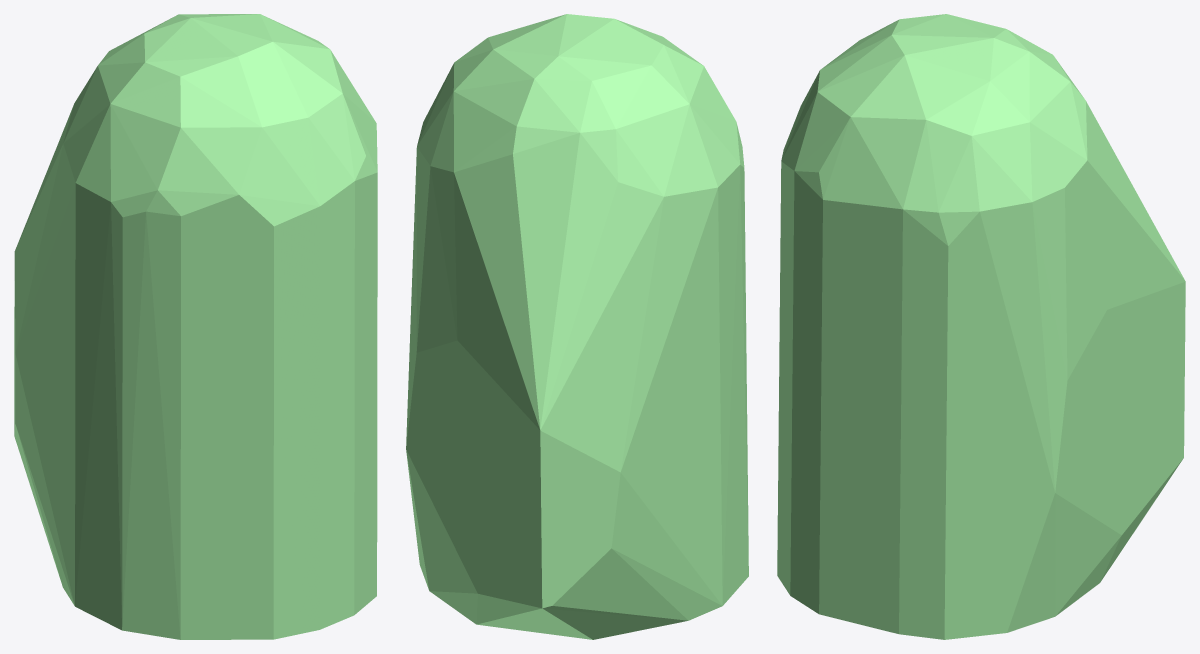
File: dvkr_robot_R_link3_respondable_coll_1.dae
The picture shows the model from 3 angles, left to right: view 1: azimuth 30°, elevation 25°; view 2: azimuth 150°, elevation 25°; view 3: azimuth 270°, elevation 25°; orthographic projection.
Parts seen in each view (by area): view 1: Node_0000023514CD84E0; view 2: Node_0000023514CD84E0; view 3: Node_0000023514CD84E0.
Boxes of the visible parts, x1,y1,x2,y2 form: Node_0000023514CD84E0: (14, 14, 377, 639); Node_0000023514CD84E0: (406, 14, 748, 639); Node_0000023514CD84E0: (777, 14, 1185, 639).
Size of the model in its own units: 0.1321 by 0.234 by 0.1628.
